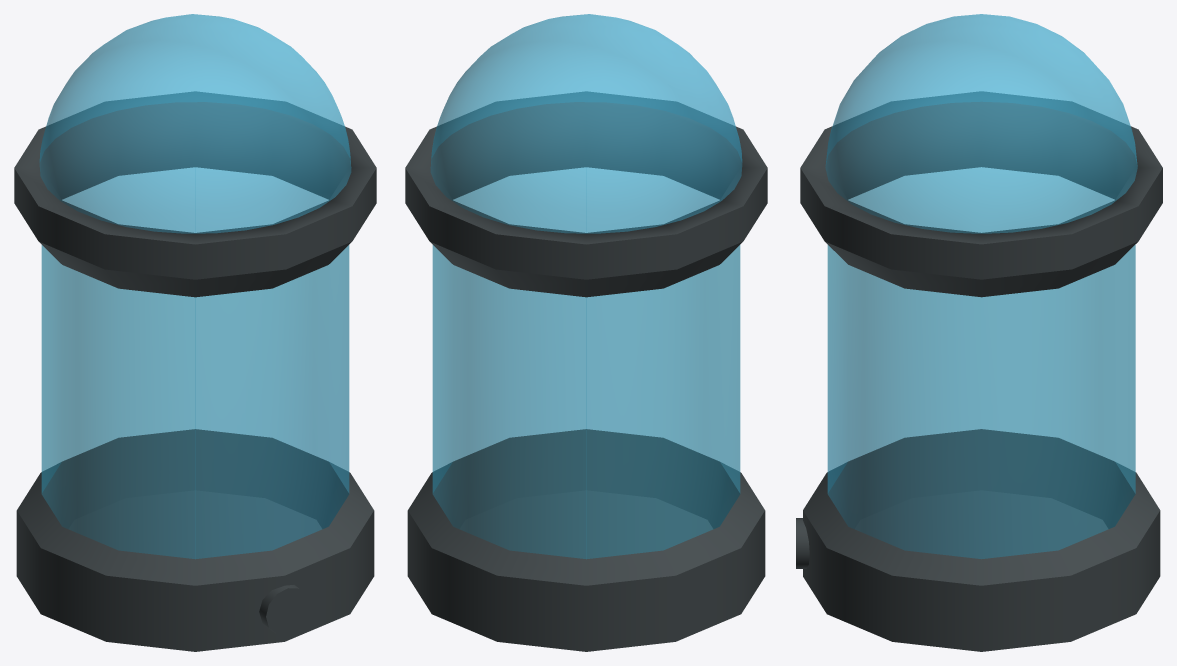
Rendered from Cryo Tube OFF.fbx.
3 renders of one model, left to right at view 1: azimuth 30°, elevation 25°; view 2: azimuth 150°, elevation 25°; view 3: azimuth 270°, elevation 25°, orthographic.
Parts seen in each view (by area): view 1: Cryo Tube OFF; view 2: Cryo Tube OFF; view 3: Cryo Tube OFF.
Boxes of the visible parts, x1,y1,x2,y2 form: Cryo Tube OFF: (14, 14, 376, 651); Cryo Tube OFF: (405, 14, 767, 651); Cryo Tube OFF: (796, 14, 1162, 651).
Bounding box in the file's own units: 203 × 338 × 205.
